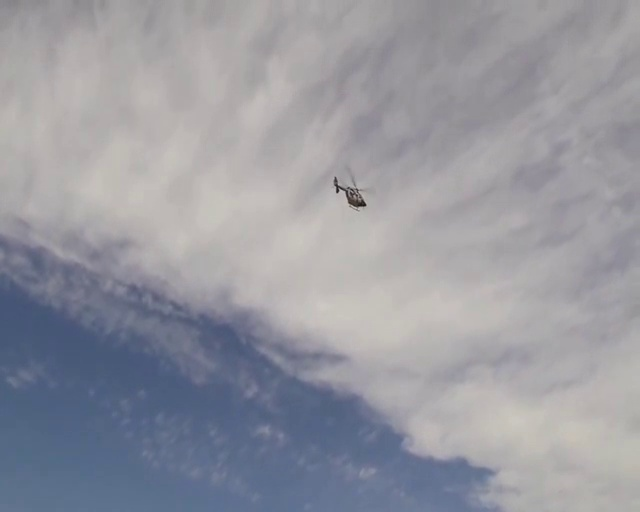HELICOPTER: (332, 167, 370, 211)
